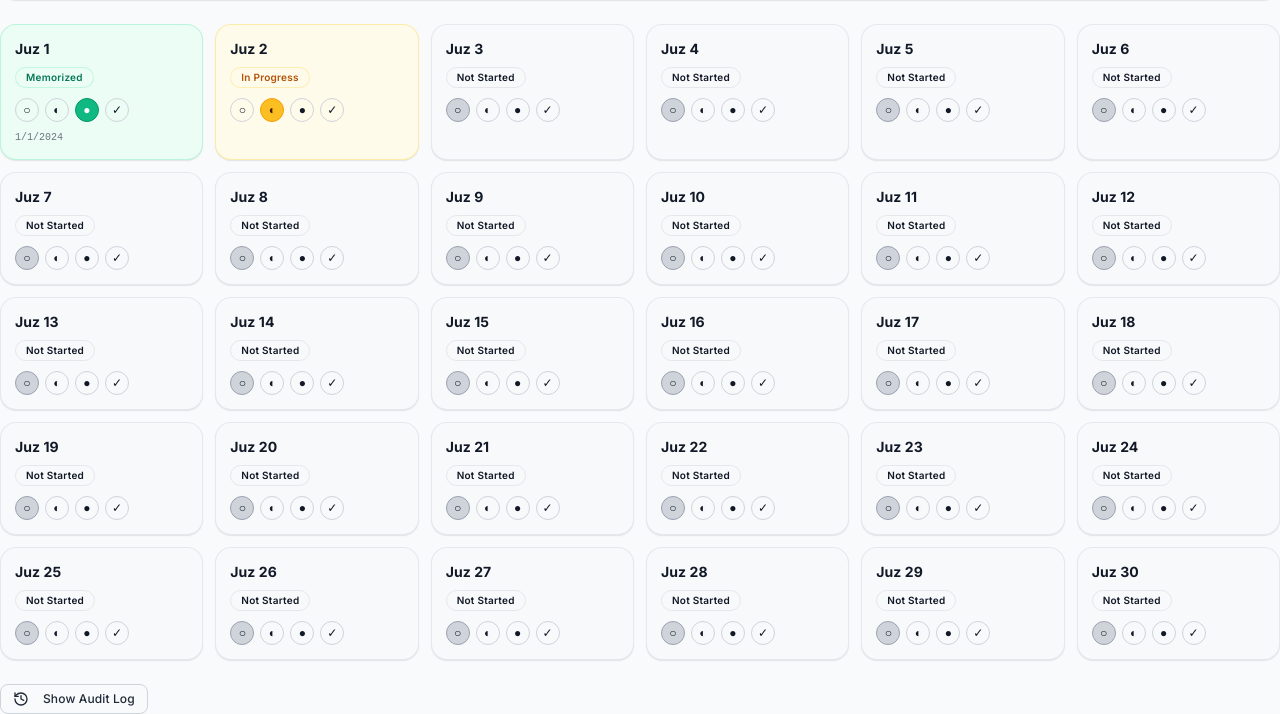
Test: HifzProgressGrid › displays audit log when toggled
The image size is (1280, 714).
(page scrolled)
Click the button "Show Audit Log" at [74, 699], box x1=0 y1=684 x2=148 y2=713
(page scrolled)
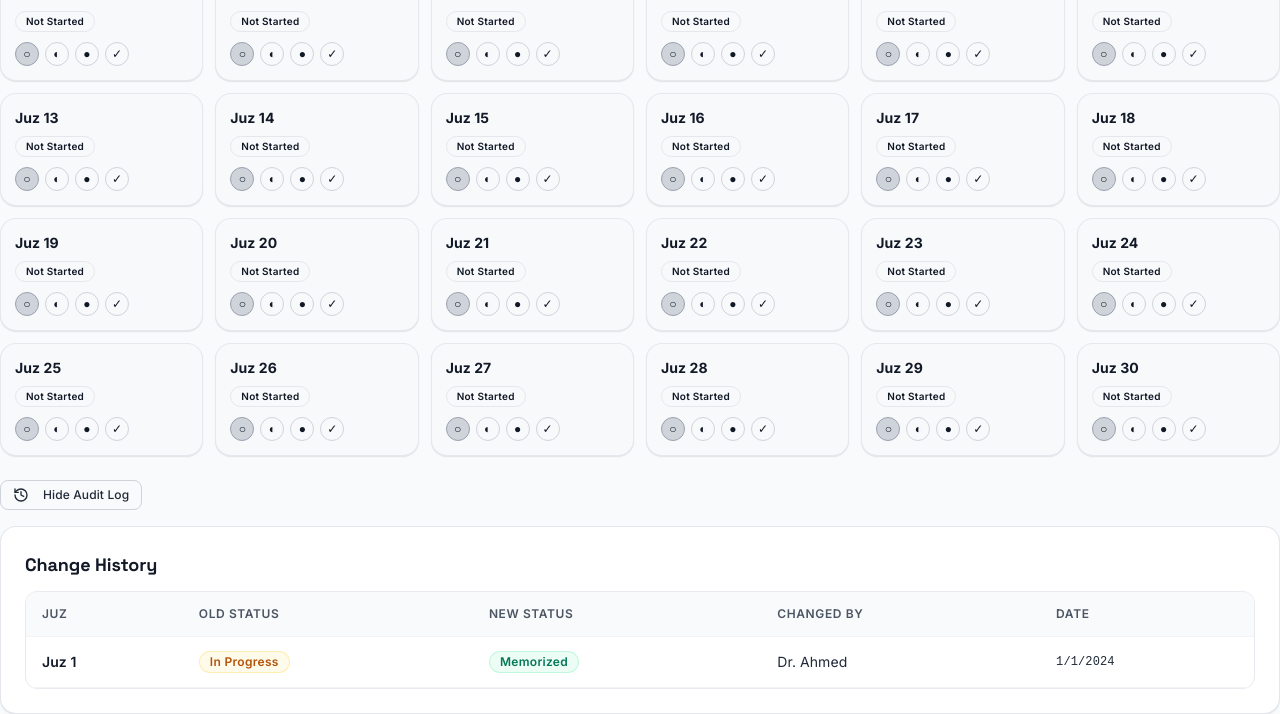
Now the heading "Change History" is shown, box x1=25 y1=553 x2=157 y2=576
Now the text "Dr. Ahmed" is shown, box x1=761 y1=636 x2=1040 y2=688
